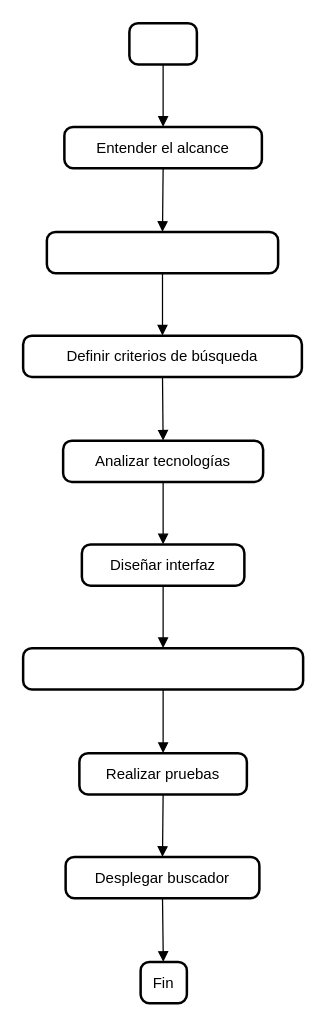
Image size: 325x1025. Some labels were removed from this diagram. Each missing label, with the centre of its shape:
Identificar stakeholders: the point at 162,252
Implementar funcionalidades: the point at 162,668
Inicio: the point at 163,43
